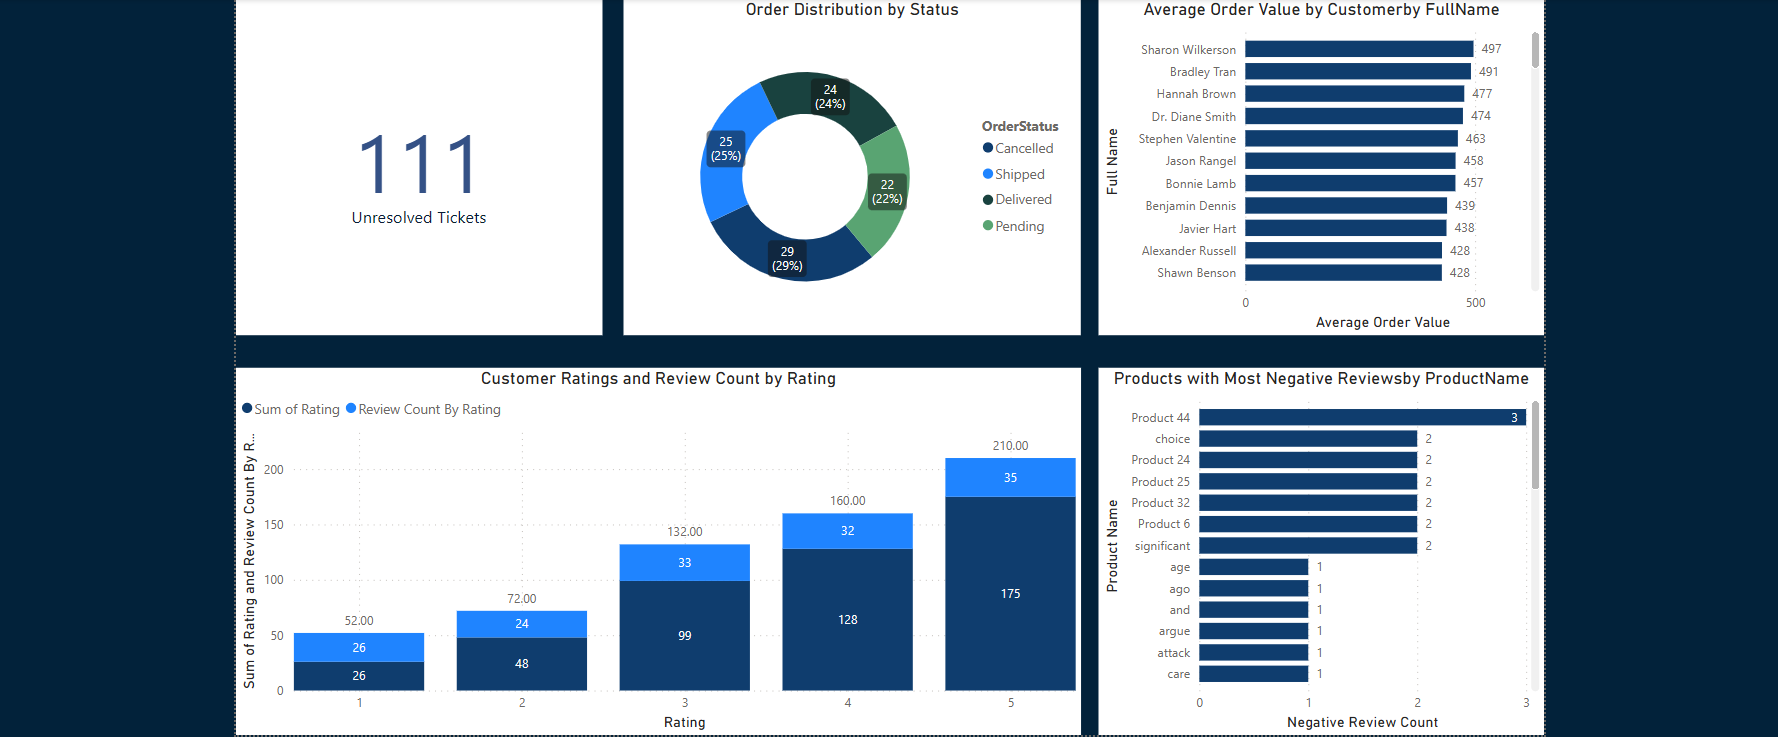

The page's visual inventory and layout, read from the dashboard file:
{"tool":"powerbi","page":{"name":"Page 1","canvas":[1280,720],"ordinal":0},"visuals":[{"type":"barChart","title":"Average Order Value by Customerby FullName","fields":{"Y":["Orders.AverageOrderValue"],"Category":["Customers.FullName"]},"box":[843.5,0,436.4,328.8],"z":0},{"type":"donutChart","title":"Order Distribution by Status","fields":{"Category":["Orders.OrderStatus"],"Y":["Orders.OrderID"]},"box":[378.9,0,447.4,328.8],"z":1000},{"type":"card","fields":{"Values":["CustomerSupportTickets.UnresolvedTickets"]},"box":[0,0,358.2,328.8],"z":2000},{"type":"columnChart","title":"Customer Ratings and Review Count by Rating","fields":{"Y":["CustomerReviews.Rating","CustomerReviews.ReviewCountByRating"],"Category":["CustomerReviews.Rating"]},"box":[0,360.6,826.3,359.4],"z":3000},{"type":"barChart","title":"Products with Most Negative Reviewsby ProductName","fields":{"Y":["CustomerReviews.NegativeReviewCount"],"Category":["Products.ProductName"]},"box":[843.5,360.6,436.4,359.4],"z":4000}]}

Visuals, with their boxes in screenshot pixels (x1, y1, x2, y2):
"Average Order Value by Customerby FullName" barChart: Rect(1091, 0, 1531, 332)
"Order Distribution by Status" donutChart: Rect(623, 0, 1074, 332)
card - CustomerSupportTickets.UnresolvedTickets: Rect(241, 0, 602, 332)
"Customer Ratings and Review Count by Rating" columnChart: Rect(241, 364, 1074, 726)
"Products with Most Negative Reviewsby ProductName" barChart: Rect(1091, 364, 1531, 726)
